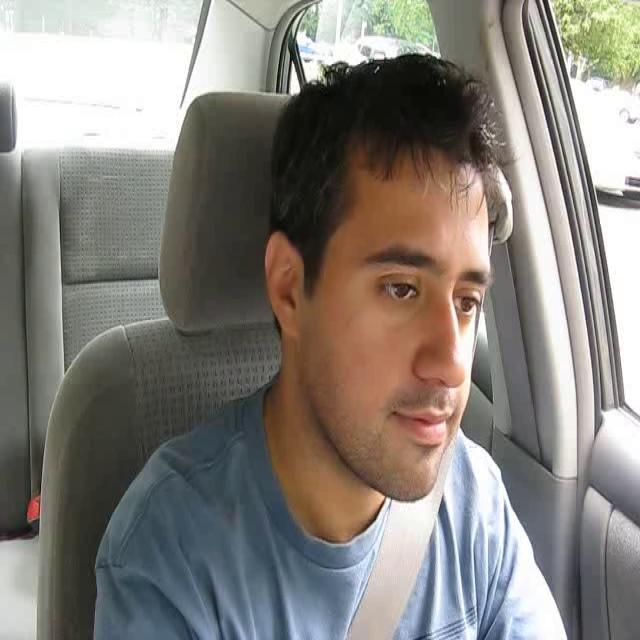close: (387, 396, 453, 452)
